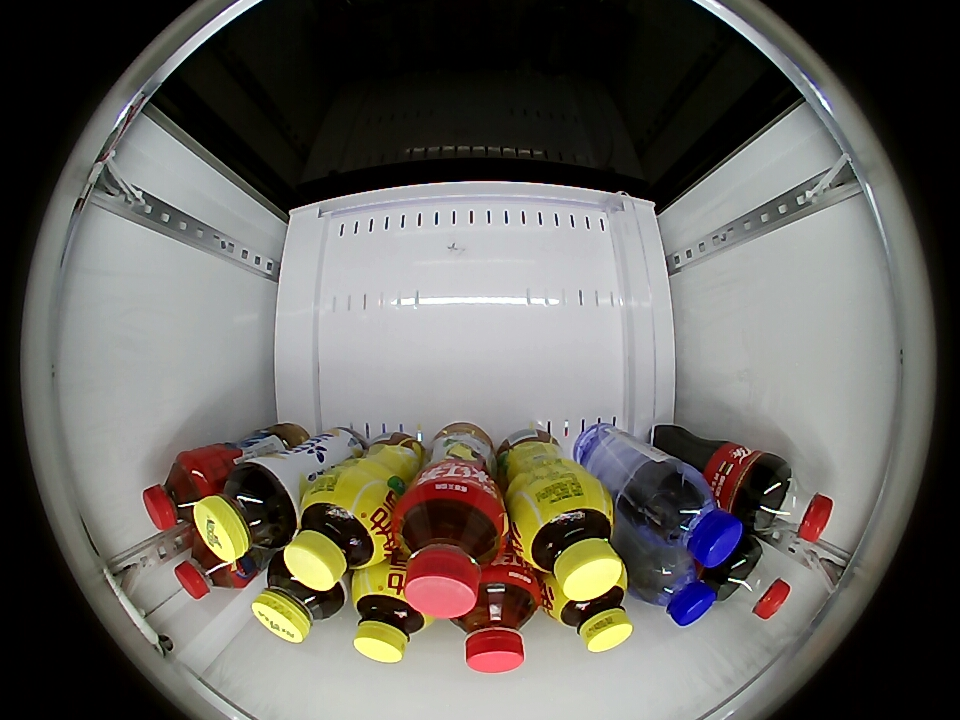aerbeisi: (638, 469, 745, 567), (633, 547, 717, 627)
binghongcha: (392, 481, 509, 620), (454, 573, 538, 674), (143, 455, 213, 531), (173, 537, 251, 601)
chacui: (194, 464, 297, 562), (251, 560, 343, 643)
kele-b: (751, 463, 834, 544), (713, 540, 792, 620)
weitaningmeng-bottle: (510, 481, 624, 602), (283, 484, 391, 592), (352, 573, 431, 664), (542, 581, 633, 653)
